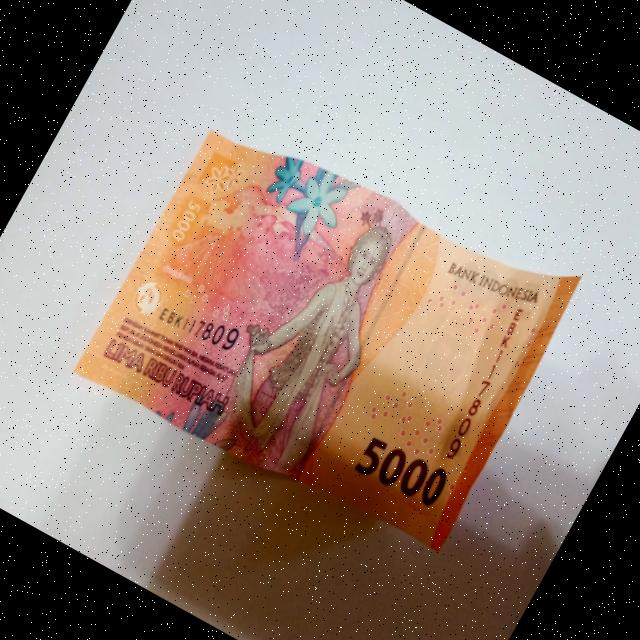5K: (66, 78, 605, 586)
